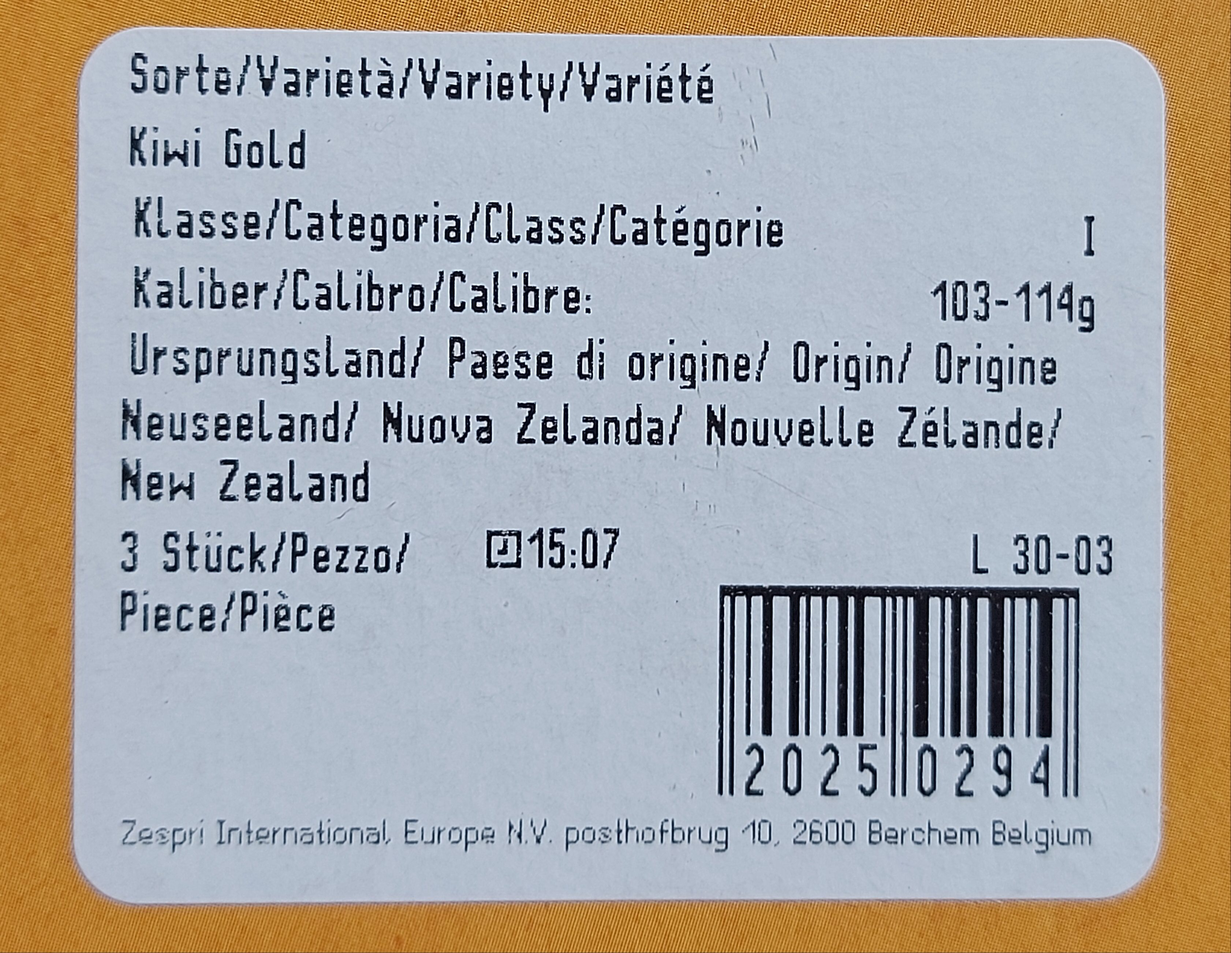kiwi gold: (62, 48, 1169, 905)
